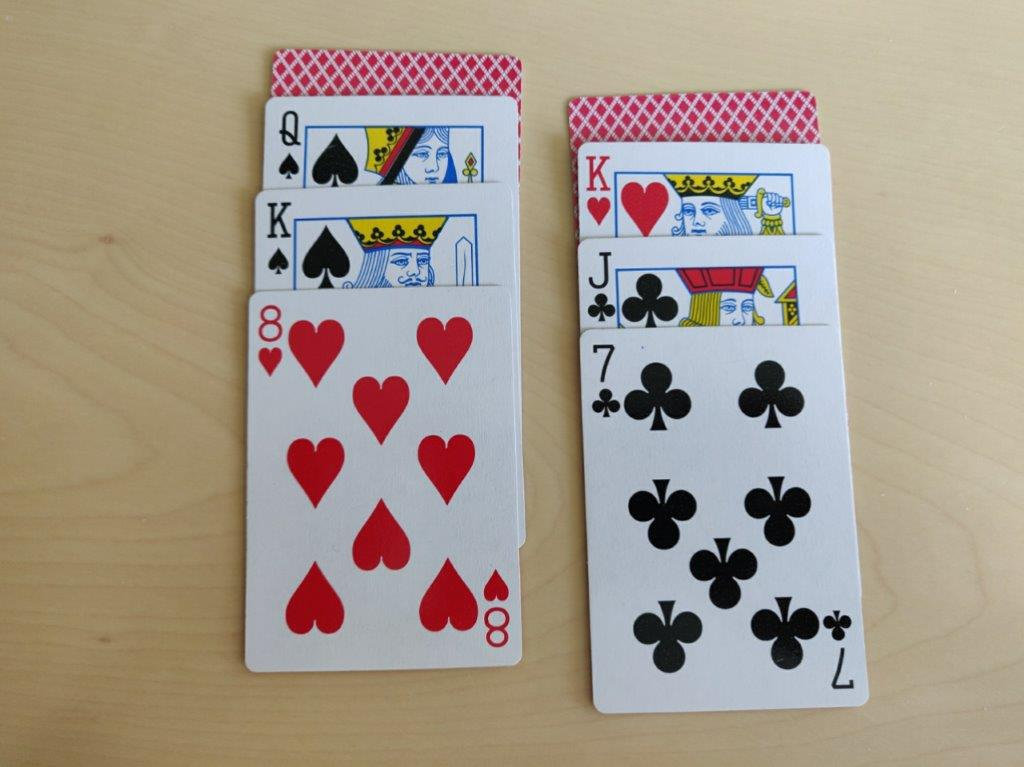7C: (585, 338, 625, 424)
8H: (255, 301, 285, 387)
BACK: (267, 44, 523, 105), (568, 91, 828, 145)
JC: (583, 249, 620, 327)
KH: (578, 148, 616, 229)
KS: (261, 198, 293, 277)
QS: (271, 107, 305, 183)
